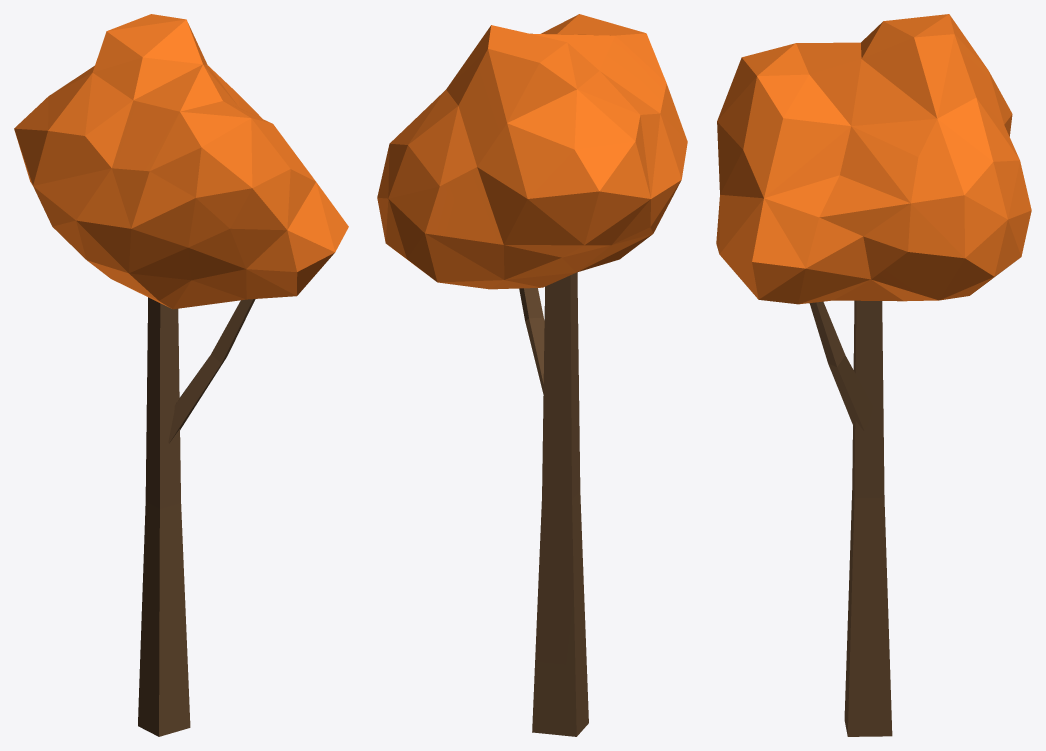
File: tree-tall_orange.glb
The picture shows the model from 3 angles, left to right: view 1: azimuth 30°, elevation 25°; view 2: azimuth 150°, elevation 25°; view 3: azimuth 270°, elevation 25°; orthographic projection. The views are drawn at different scales.
Parts seen in each view (by area): view 1: tree-tall_orange; view 2: tree-tall_orange; view 3: tree-tall_orange.
Part boxes in pixels (left/top/right/bottom): tree-tall_orange: left=14, top=14, right=348, bottom=736; tree-tall_orange: left=377, top=14, right=687, bottom=736; tree-tall_orange: left=716, top=14, right=1031, bottom=736.
Size of the model in its own units: 2.12 by 5.7 by 2.28.
1 material, 1 textured.
